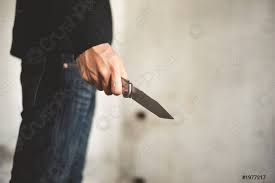weapon-unusual: (77, 61, 176, 123)
